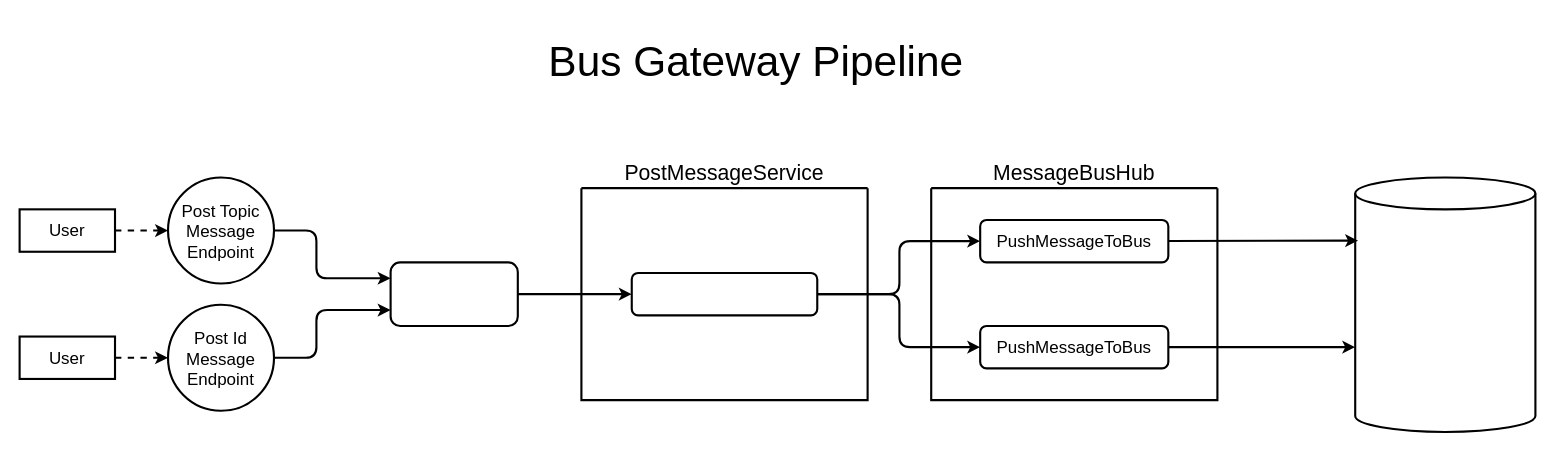
The diagram is 1554 pixels wide and 450 high, and some of its shapes have lost their labels. The centre of each missing label's shape, as x and y in pixels:
"MessageBus" goes at (x=1445, y=304).
"Middleware Authentication (Optional)" goes at (x=453, y=293).
"PostMessageToBus" goes at (x=724, y=293).
